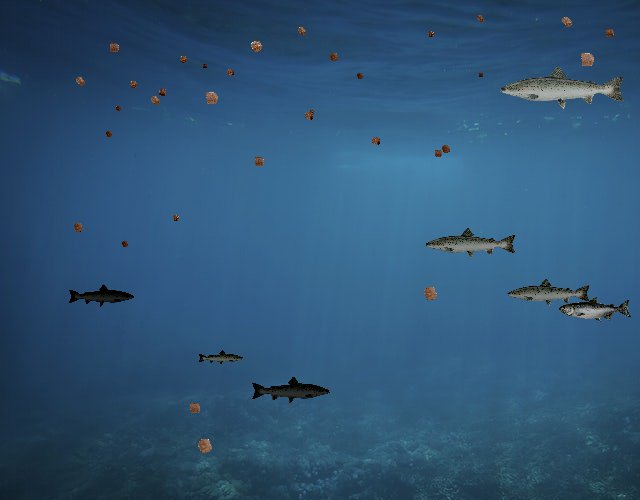Fish: (498, 64, 627, 110), (425, 227, 519, 261), (506, 277, 592, 308), (251, 375, 332, 405), (559, 297, 632, 323), (67, 284, 135, 308), (198, 349, 245, 366)
Pellet: (190, 430, 220, 460), (244, 34, 269, 59), (183, 397, 206, 420), (366, 132, 385, 151), (168, 211, 183, 226), (423, 27, 438, 41), (118, 237, 132, 251)
